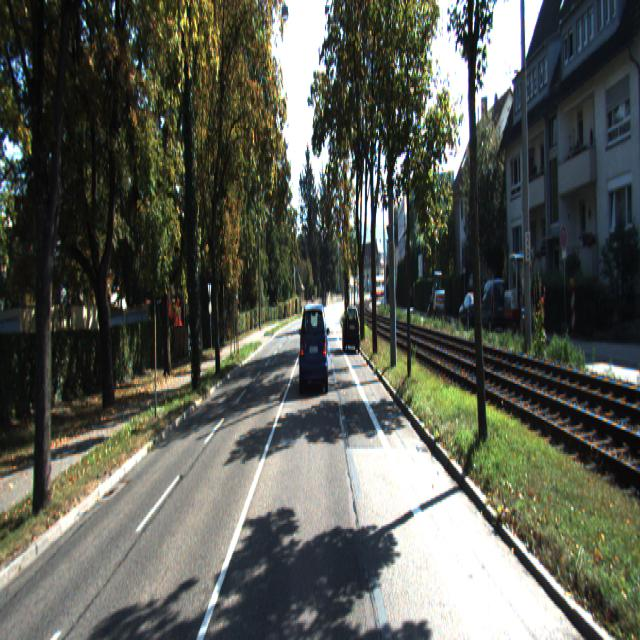Car: (299, 300, 329, 396), (504, 247, 528, 333), (478, 275, 509, 333), (459, 291, 486, 330), (342, 304, 360, 353), (433, 272, 445, 318)
